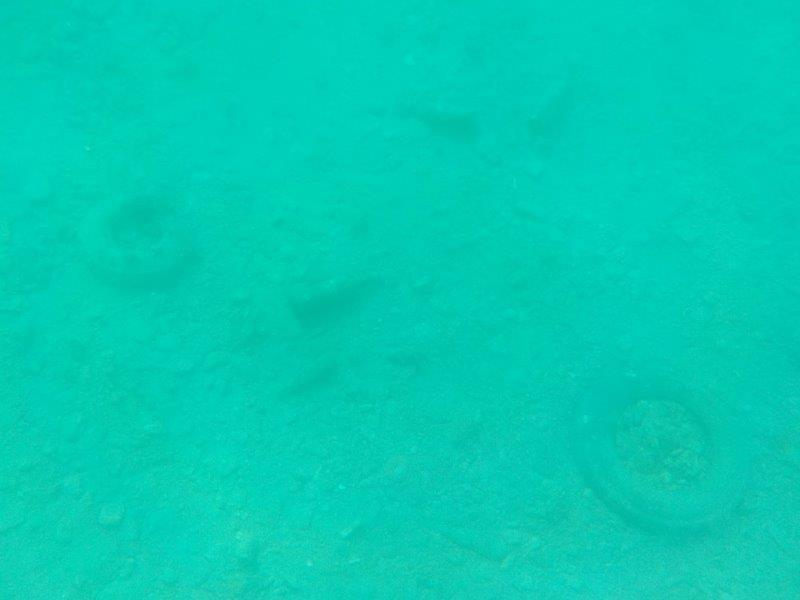bottle: (288, 269, 391, 318)
tire: (566, 363, 756, 540), (78, 189, 205, 292)
